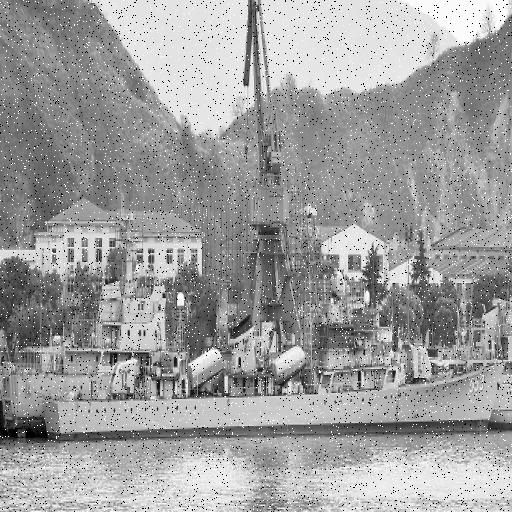Fragata: (40, 257, 506, 448)
